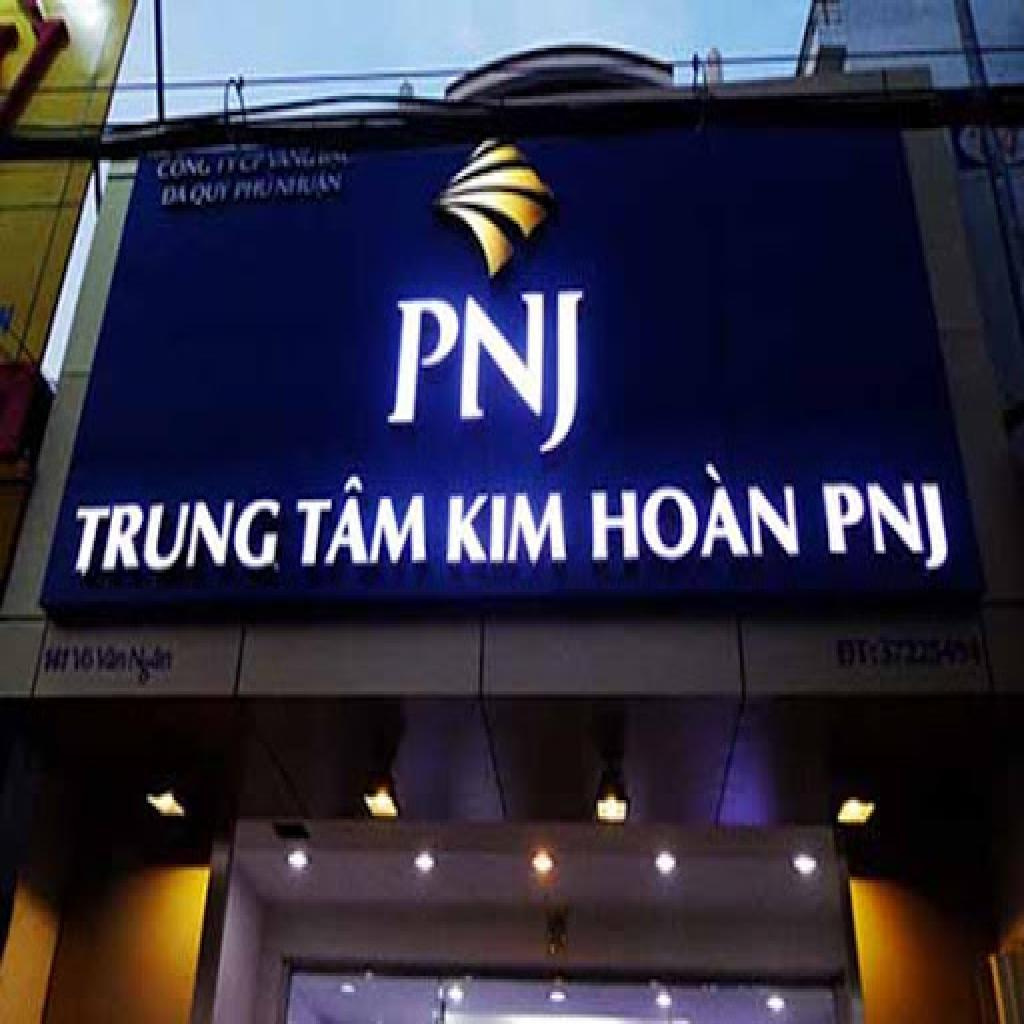text: (374, 278, 600, 458), (586, 460, 802, 570), (66, 486, 290, 586), (816, 474, 958, 582), (294, 474, 430, 576), (444, 477, 570, 573), (128, 643, 176, 691), (834, 634, 880, 672), (156, 154, 214, 182), (232, 173, 278, 208), (192, 179, 234, 208), (42, 640, 74, 678), (96, 640, 130, 675), (70, 644, 96, 678), (214, 150, 240, 182), (160, 182, 190, 208), (0, 301, 16, 339)
